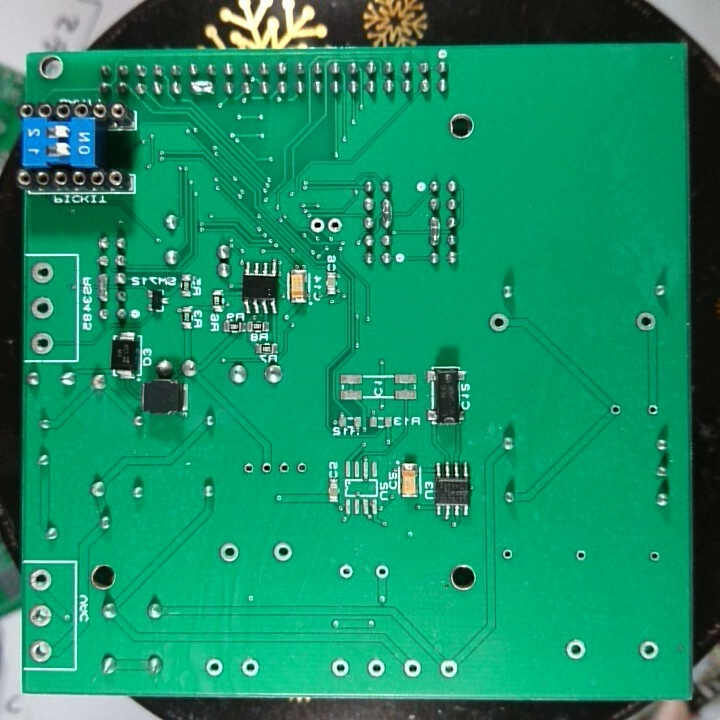F: (561, 635, 590, 666), (214, 539, 244, 567), (25, 638, 55, 666), (29, 295, 58, 323), (27, 601, 54, 631), (29, 259, 56, 288), (28, 565, 54, 595), (269, 539, 297, 566), (28, 329, 54, 356), (636, 638, 661, 666), (633, 309, 659, 335), (487, 311, 511, 337), (203, 656, 227, 681), (328, 656, 351, 680), (239, 656, 262, 679), (365, 655, 386, 680), (402, 657, 423, 680), (437, 659, 461, 679), (336, 560, 356, 583), (325, 214, 344, 238), (371, 563, 392, 583), (497, 545, 517, 564), (308, 215, 326, 235), (275, 457, 292, 478), (293, 457, 308, 478), (645, 400, 661, 419), (608, 400, 623, 419), (647, 547, 662, 566), (241, 460, 258, 476), (573, 545, 588, 563), (259, 458, 274, 476)
P: (379, 196, 397, 232), (95, 270, 113, 306), (188, 77, 217, 98), (428, 213, 443, 249)
